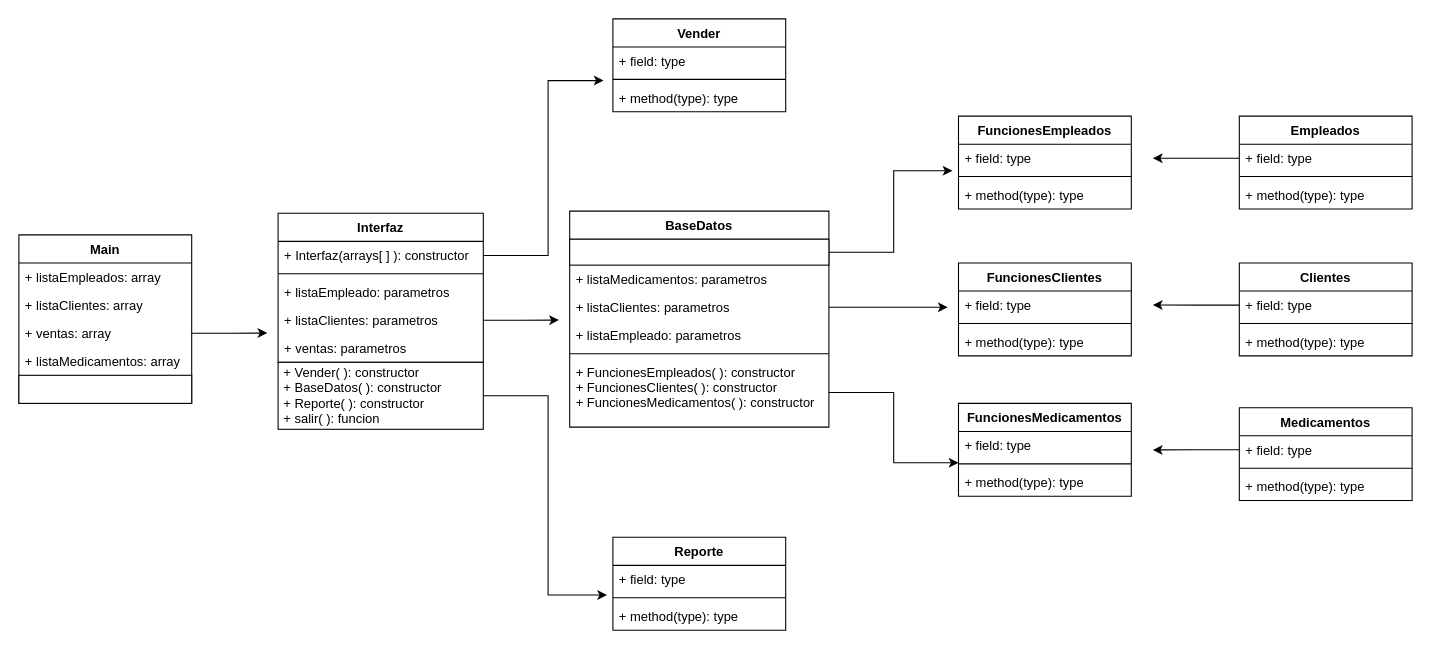
Image size: 1431x652. Some labels were removed from this diagram. Here are the shapes that lost their labels. From the top down, the centre of each, then its label:
At pixel 699 251: "+ BaseDatos( ): constructor".
At pixel 105 388: "Main( )".
